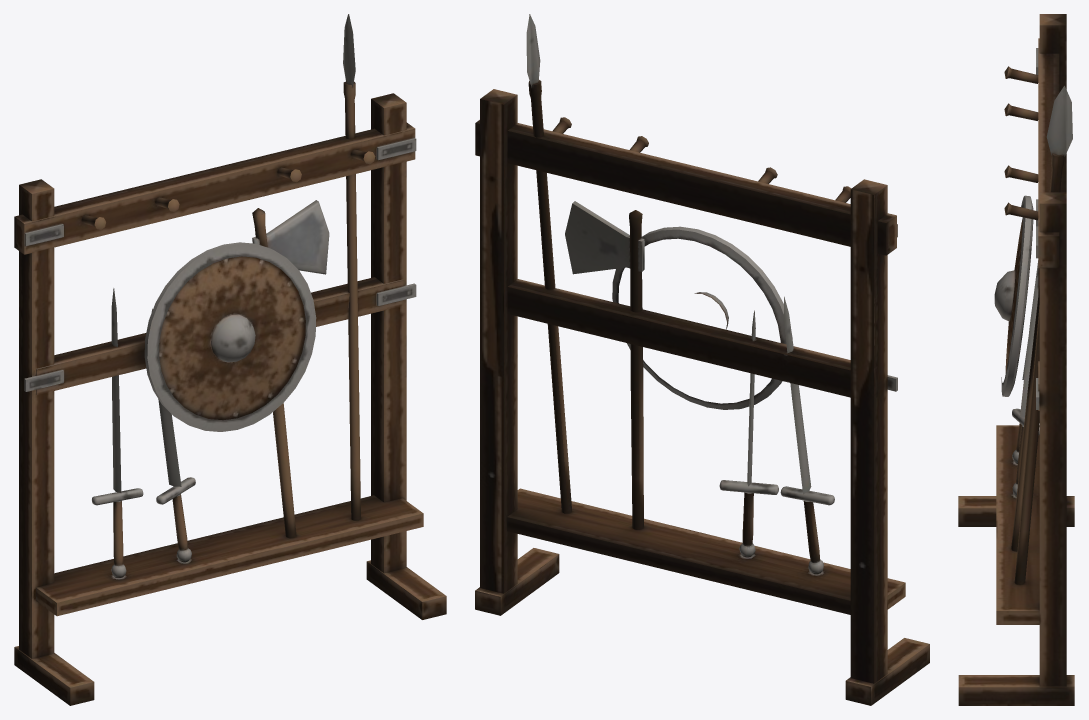
The model's file is weapon_rack.glb.
3 views of the same model, side by side, from view 1: azimuth 30°, elevation 25°; view 2: azimuth 150°, elevation 25°; view 3: azimuth 270°, elevation 25° (orthographic). The views are drawn at different scales.
Visible parts, largest first — view 1: weapon_rack; view 2: weapon_rack; view 3: weapon_rack.
Boxes of the visible parts, <box> form: weapon_rack: <box>14,14,446,705</box>; weapon_rack: <box>475,14,929,705</box>; weapon_rack: <box>958,14,1074,705</box>.
Size of the model in its own units: 1.6 by 2.24 by 0.396.
1 material, 1 textured.
